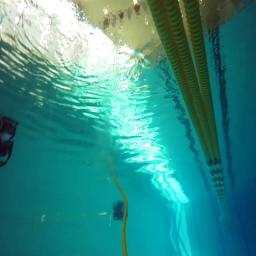Full: (0, 140, 15, 168), (112, 210, 126, 220)
